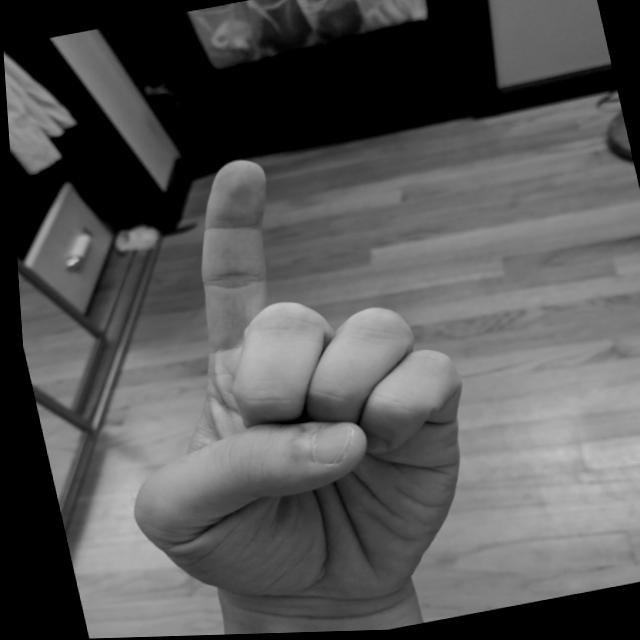D: (46, 121, 511, 638)
